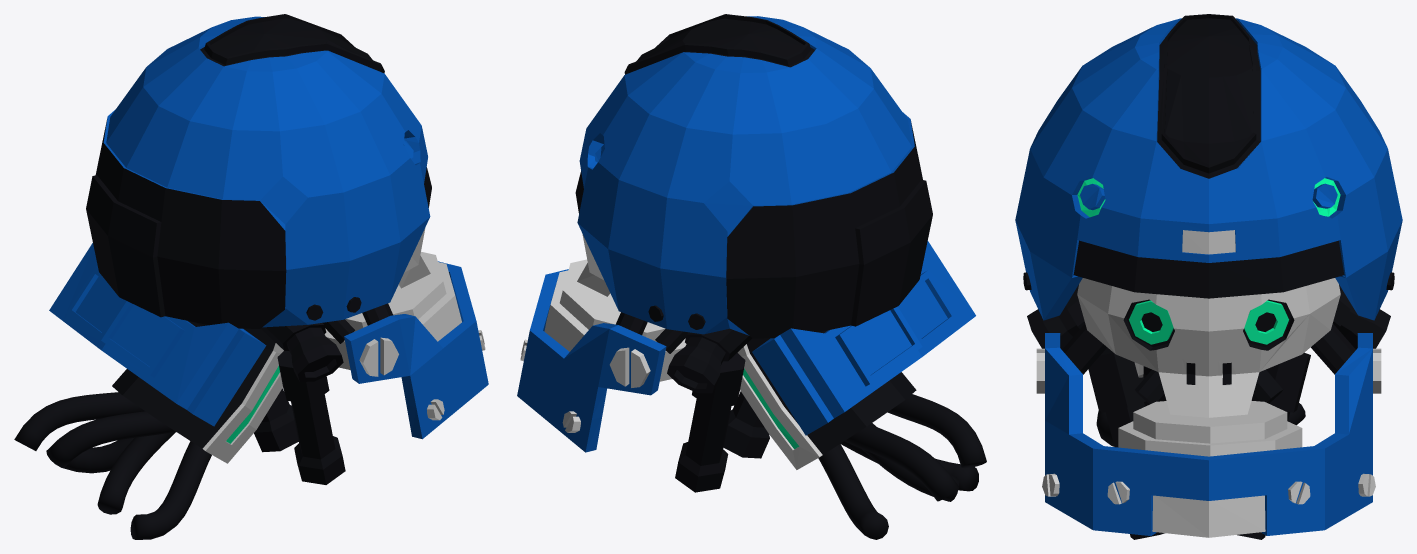
The model's file is Blue.fbx.
The picture shows the model from 3 angles, left to right: view 1: azimuth 30°, elevation 25°; view 2: azimuth 150°, elevation 25°; view 3: azimuth 270°, elevation 25°; orthographic projection. The views are drawn at different scales.
Parts seen in each view (by area): view 1: Blue; view 2: Blue; view 3: Blue.
Boxes of the visible parts, x1=… form: Blue: x1=14, y1=14, x2=488, y2=539; Blue: x1=517, y1=14, x2=986, y2=539; Blue: x1=1015, y1=14, x2=1402, y2=539.
Size of the model in its own units: 936 by 901 by 649.
